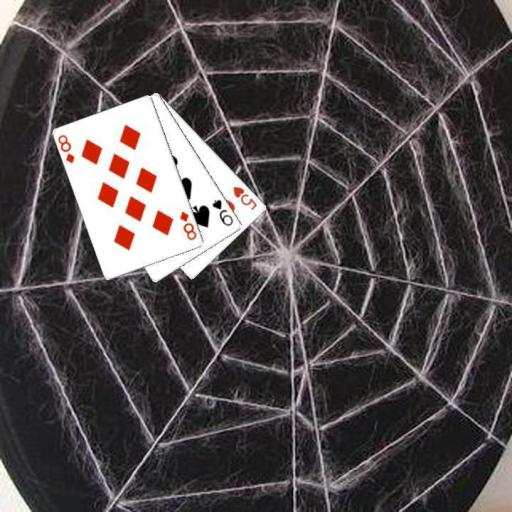card-corner: (230, 183, 259, 212), (209, 196, 235, 228), (177, 208, 198, 242), (55, 132, 76, 165)
